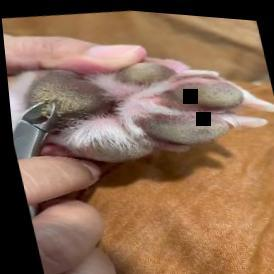keratosis: (19, 65, 100, 121)
